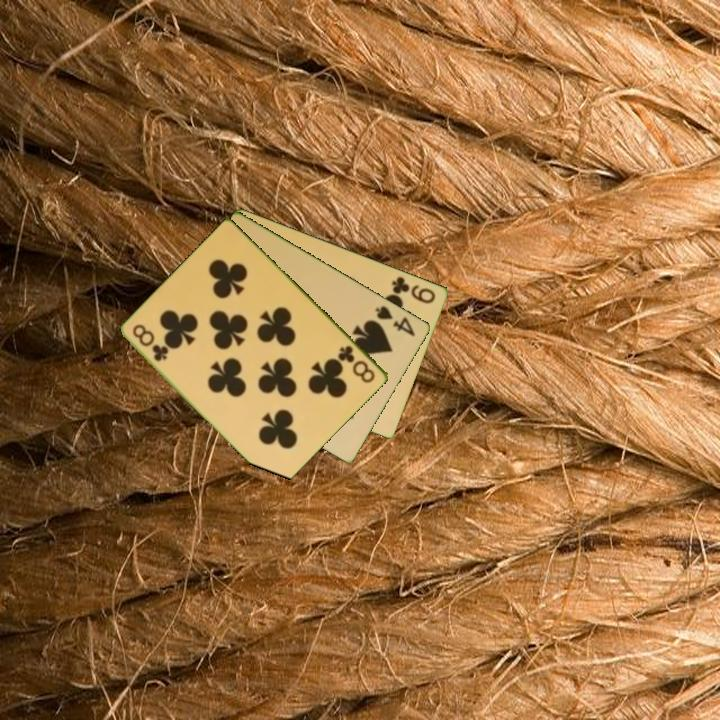4s: (372, 302, 419, 339)
8c: (334, 342, 378, 386), (129, 321, 172, 365)
9c: (388, 273, 439, 306)
